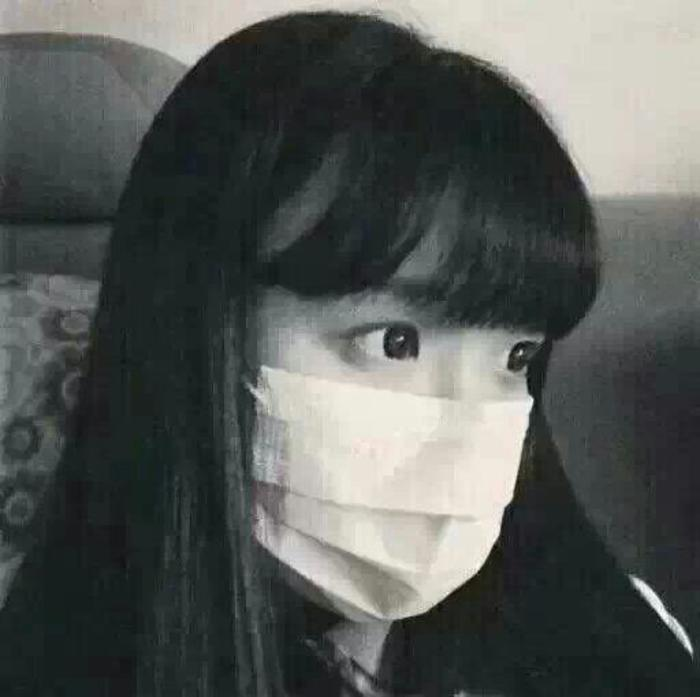face_mask: (251, 229, 533, 623)
